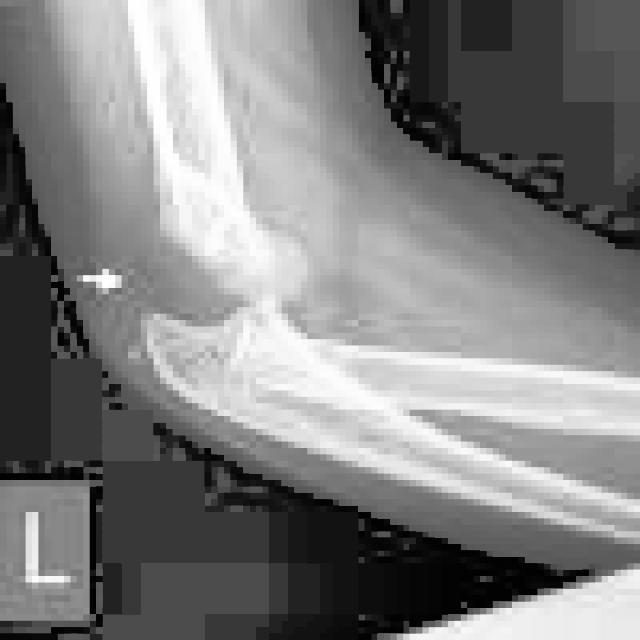Fracture Dislocation: (192, 256, 294, 322)
